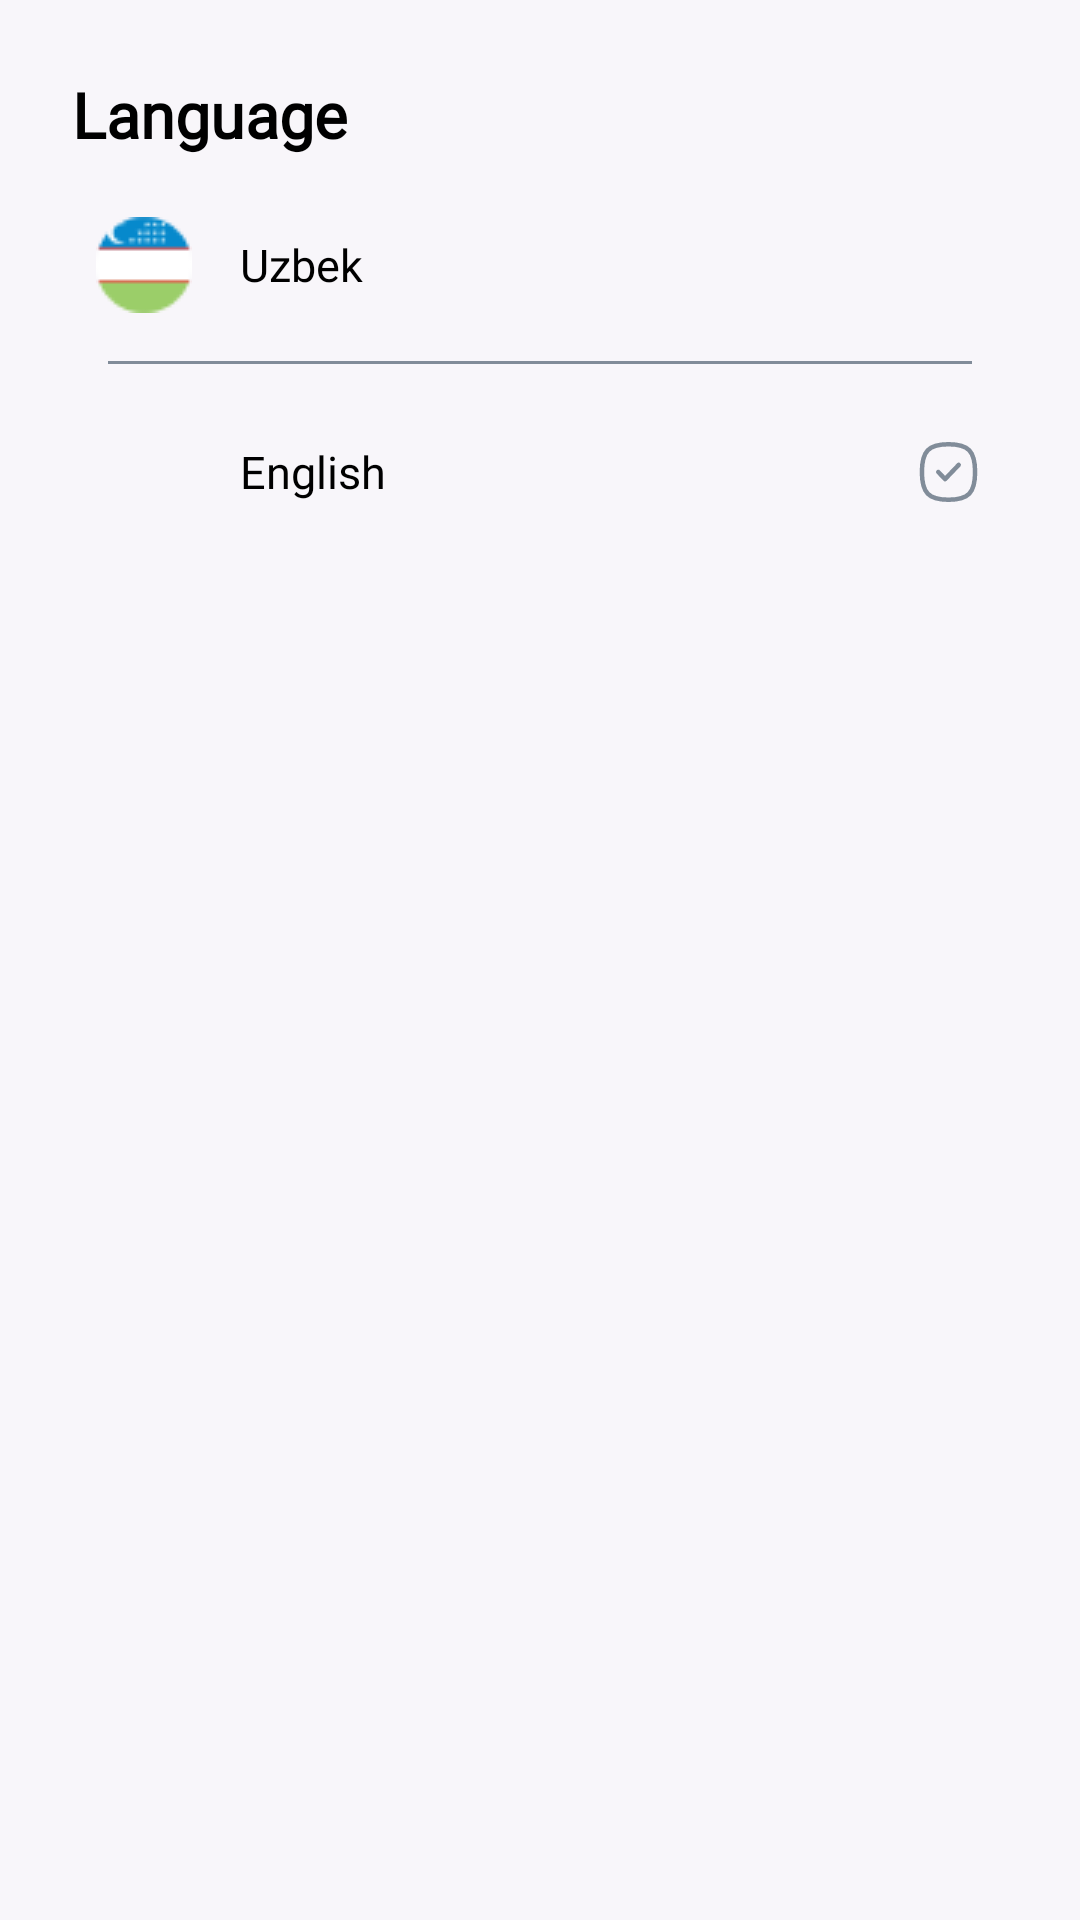

Where to tap for icons on this 1080w x 1920h app screen, as (x=x, y=y):
check: (x=948, y=472)
